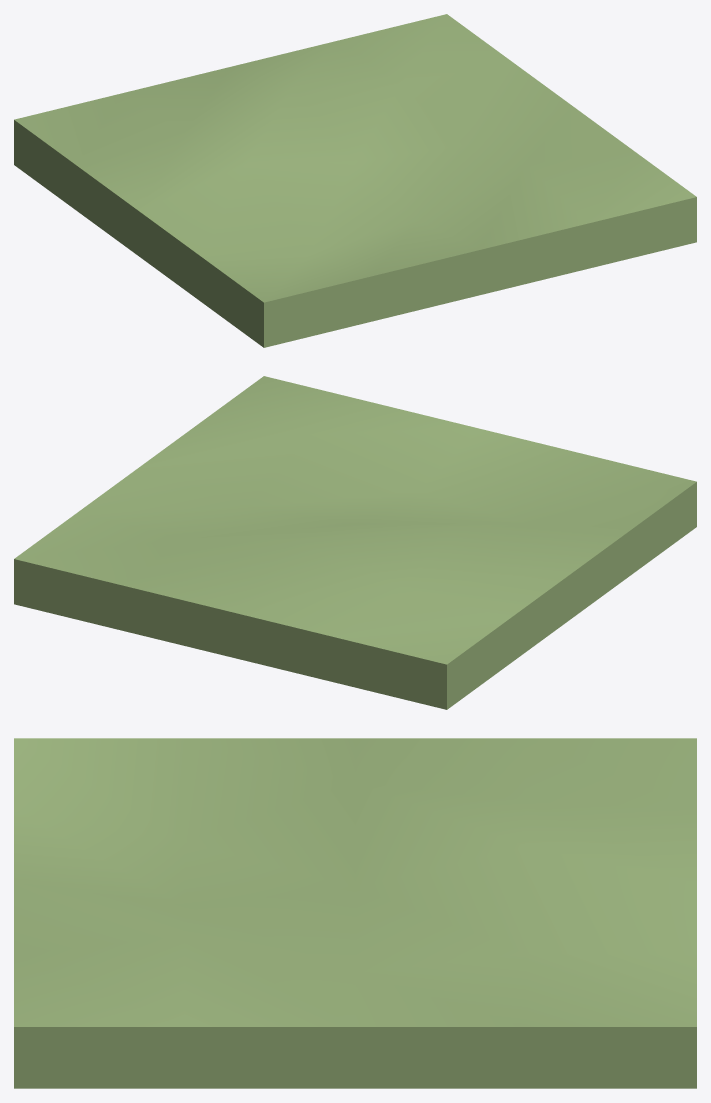
Rendered from Dual_Grid_L_L_L_L.fbx.
3 views of the same model, one above another, from view 1: azimuth 30°, elevation 25°; view 2: azimuth 150°, elevation 25°; view 3: azimuth 270°, elevation 25° (orthographic). The views are drawn at different scales.
Visible parts, largest first — view 1: Tile_L_L_L_L; view 2: Tile_L_L_L_L; view 3: Tile_L_L_L_L.
Part boxes in pixels (left/top/right/bottom): Tile_L_L_L_L: left=14, top=14, right=696, bottom=347; Tile_L_L_L_L: left=14, top=376, right=696, bottom=709; Tile_L_L_L_L: left=14, top=738, right=696, bottom=1088.
Size of the model in its own units: 100 by 100 by 15.78.
